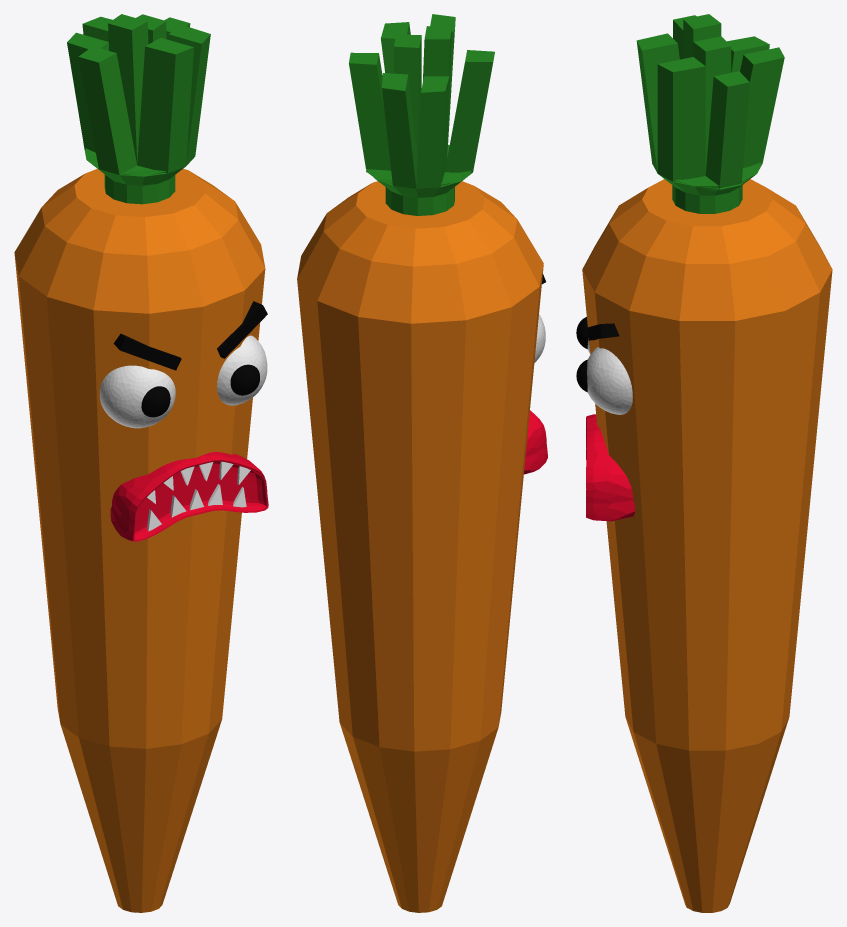
Rendered from Carrot Man.fbx.
3 renders of one model, left to right at view 1: azimuth 30°, elevation 25°; view 2: azimuth 150°, elevation 25°; view 3: azimuth 270°, elevation 25°, orthographic.
Parts seen in each view (by area): view 1: Carrot Dude, Mouth, Eye, Eyebrow, Pupil; view 2: Carrot Dude, Mouth; view 3: Carrot Dude, Mouth, Eye, Pupil.
Boxes of the visible parts, <box> form: Carrot Dude: <box>14,14,265,912</box>; Mouth: <box>110,452,268,541</box>; Eye: <box>99,335,267,428</box>; Eyebrow: <box>113,301,267,370</box>; Pupil: <box>141,364,259,417</box>; Carrot Dude: <box>297,14,543,912</box>; Mouth: <box>524,410,547,474</box>; Carrot Dude: <box>582,14,832,912</box>; Mouth: <box>586,414,635,521</box>; Eye: <box>587,338,632,414</box>; Pupil: <box>576,317,587,392</box>.
Bounding box in the file's own units: 32.53 × 129 × 34.14.
